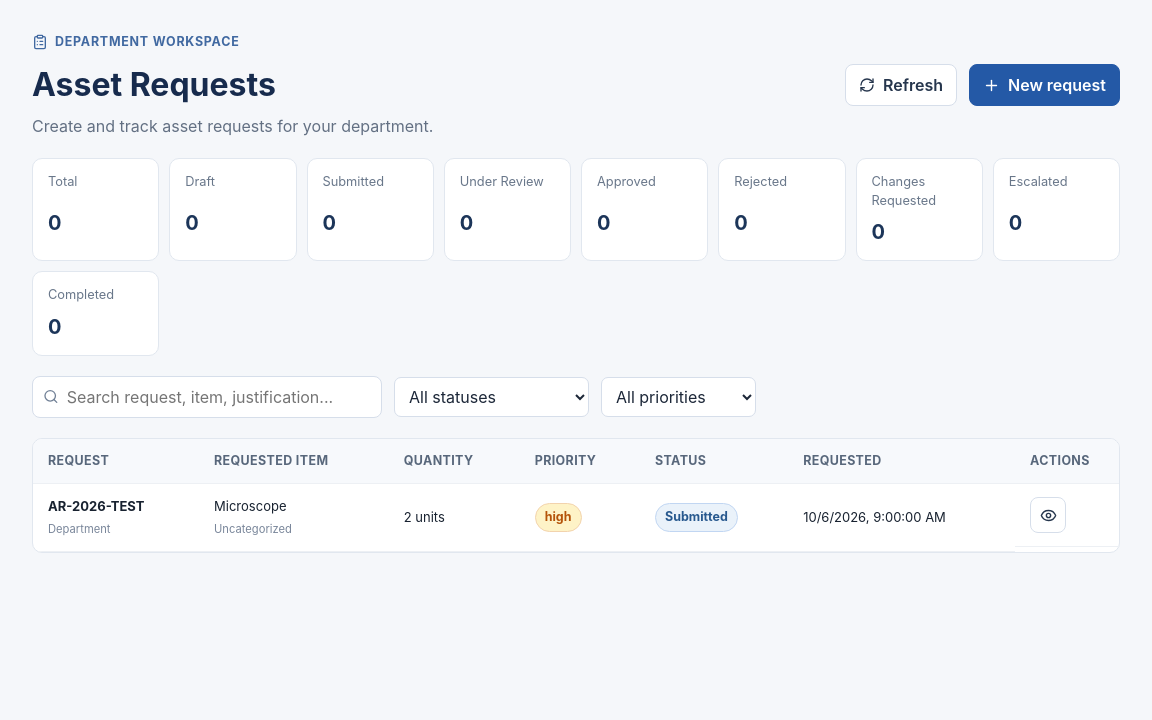
Test: shows real request status and loads request history in details
Expected: the text "AR-2026-TEST" is shown, x1=48 y1=498 x2=144 y2=514
Expected: the text "Submitted" next to "Under Review" is shown, x1=322 y1=174 x2=384 y2=189
Step 1. Click the button named "View AR-2026-TEST" → (1048, 515), box x1=1030 y1=497 x2=1066 y2=533
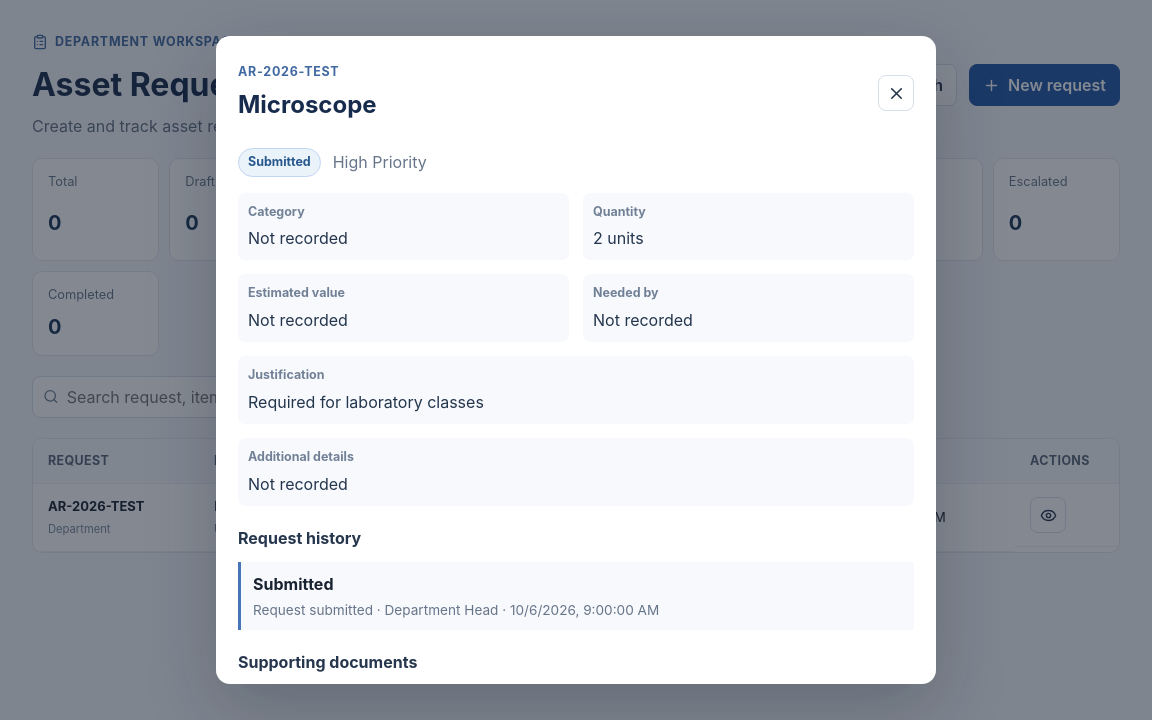
Now the heading "Microscope" is shown, box x1=238 y1=87 x2=377 y2=123
Now the text "Request submitted · Department Head · 10/6/2026, 9:00:00 AM" is shown, box x1=253 y1=602 x2=659 y2=618
